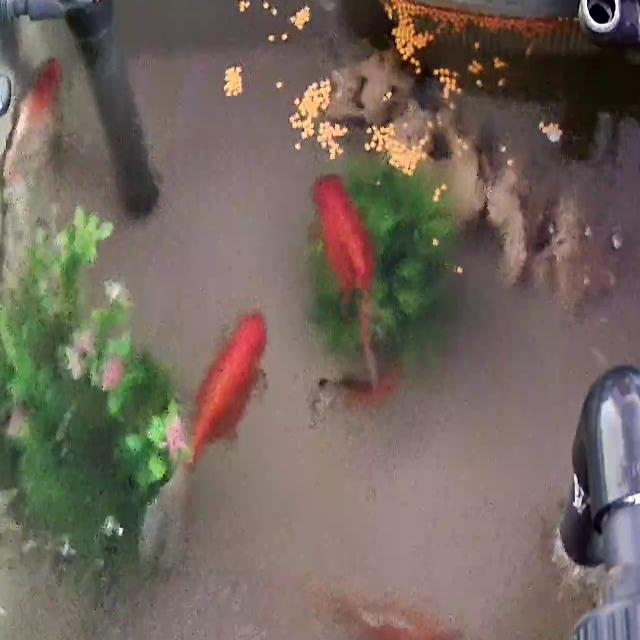fish: (318, 173, 383, 400), (185, 308, 269, 474), (4, 60, 67, 211), (338, 591, 439, 640)
